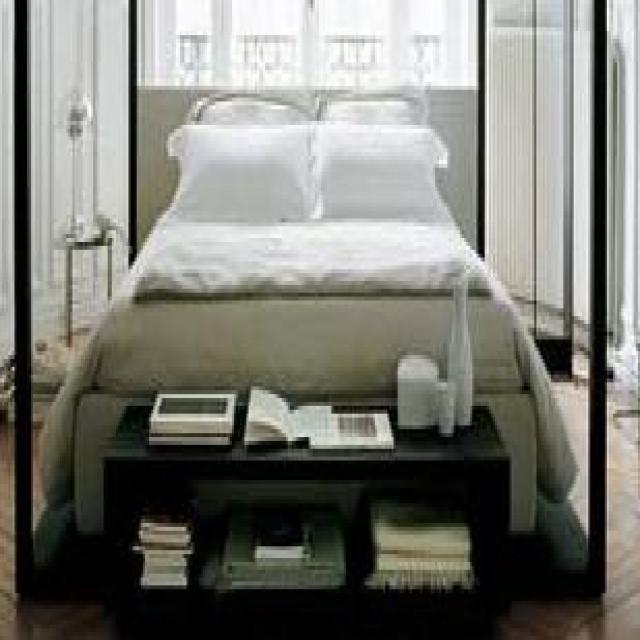bed: (33, 82, 589, 582)
